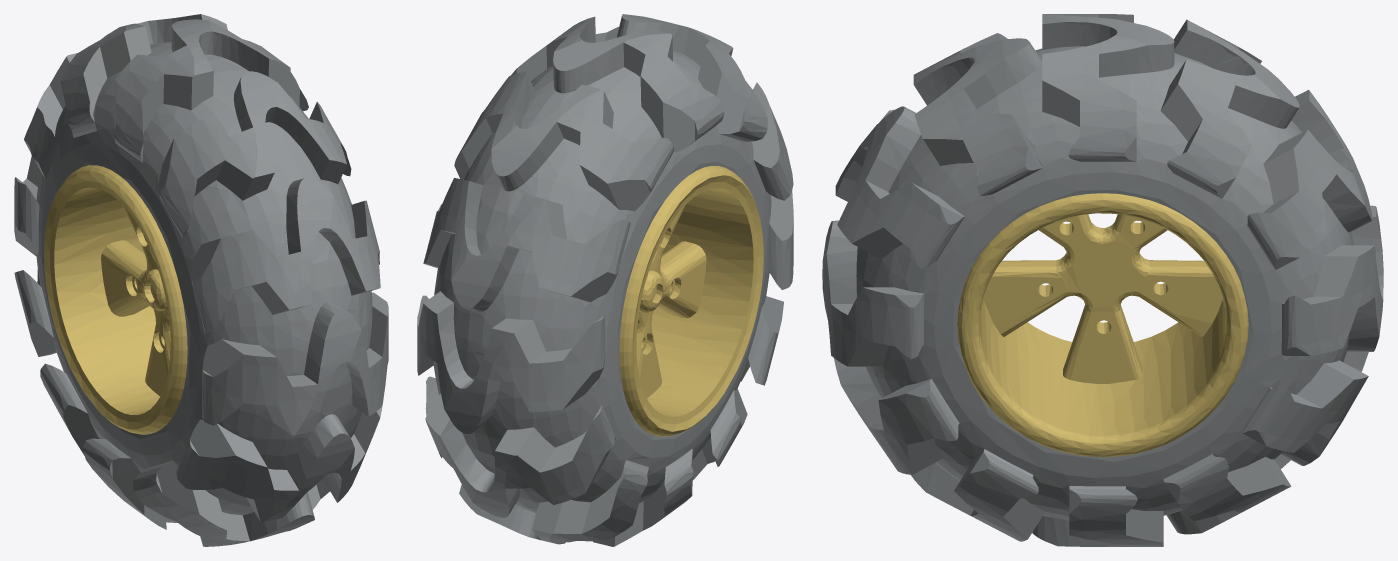
File: roue.glb
3 renders of one model, left to right at view 1: azimuth 30°, elevation 25°; view 2: azimuth 150°, elevation 25°; view 3: azimuth 270°, elevation 25°, orthographic. The views are drawn at different scales.
Visible parts, largest first — view 1: Mesh_Mesh_head_geo.001_lambert2SG.001; view 2: Mesh_Mesh_head_geo.001_lambert2SG.001; view 3: Mesh_Mesh_head_geo.001_lambert2SG.001.
Part boxes in pixels (x1,y1,x2,y2): Mesh_Mesh_head_geo.001_lambert2SG.001: [14, 14, 388, 546]; Mesh_Mesh_head_geo.001_lambert2SG.001: [417, 14, 793, 546]; Mesh_Mesh_head_geo.001_lambert2SG.001: [822, 14, 1383, 546].
Size of the model in its own units: 0.024 by 0.0593 by 0.0593.
